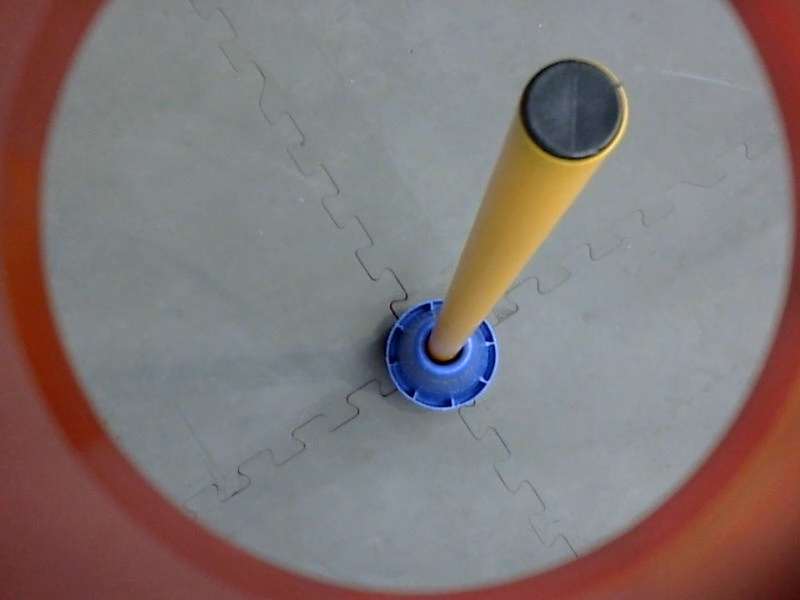tip: (514, 54, 635, 173)
